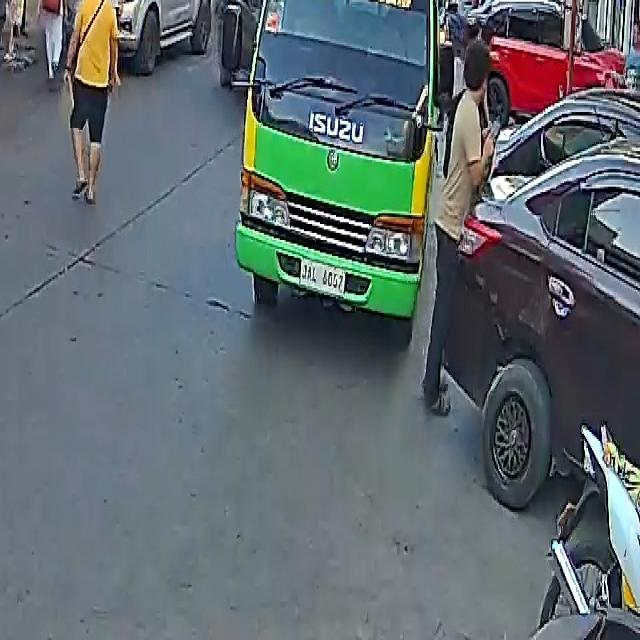car: (423, 67, 640, 521), (469, 0, 629, 124), (76, 0, 213, 69)
